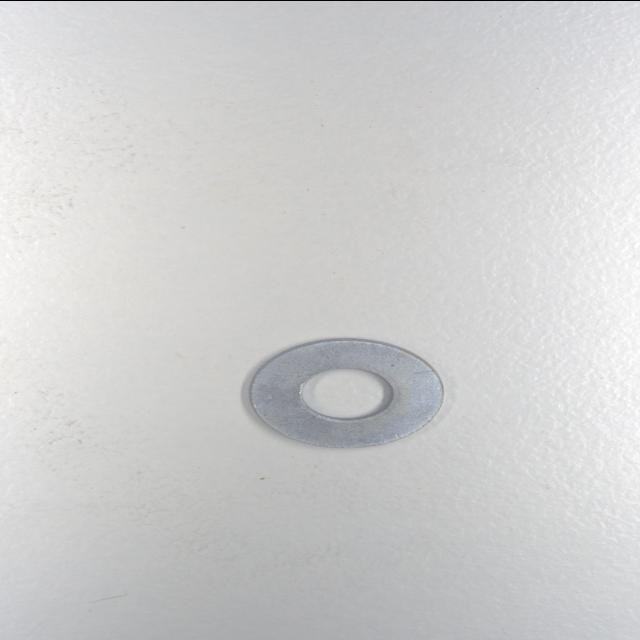washer: (246, 338, 449, 450)
